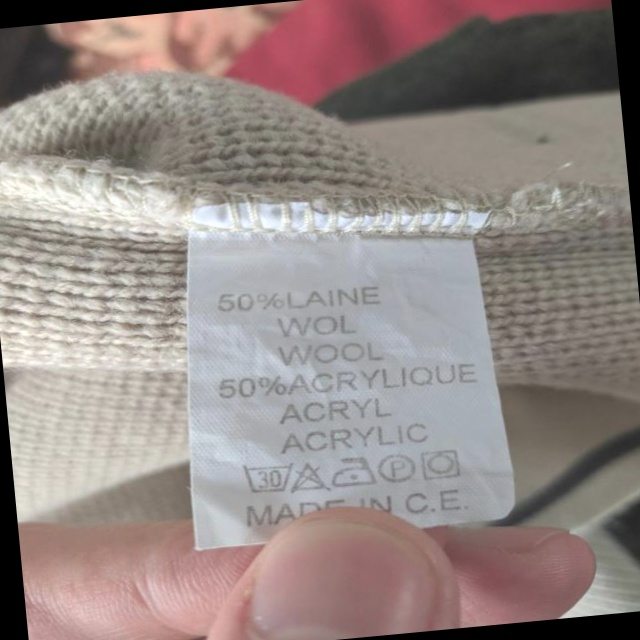30C: (238, 459, 296, 500)
DN_bleach: (287, 458, 331, 498)
dry_clean_any_solvent_except_trichloroethylene: (375, 451, 421, 485)
iron_low: (327, 452, 377, 491)
tumble_dry_normal: (421, 446, 461, 484)
